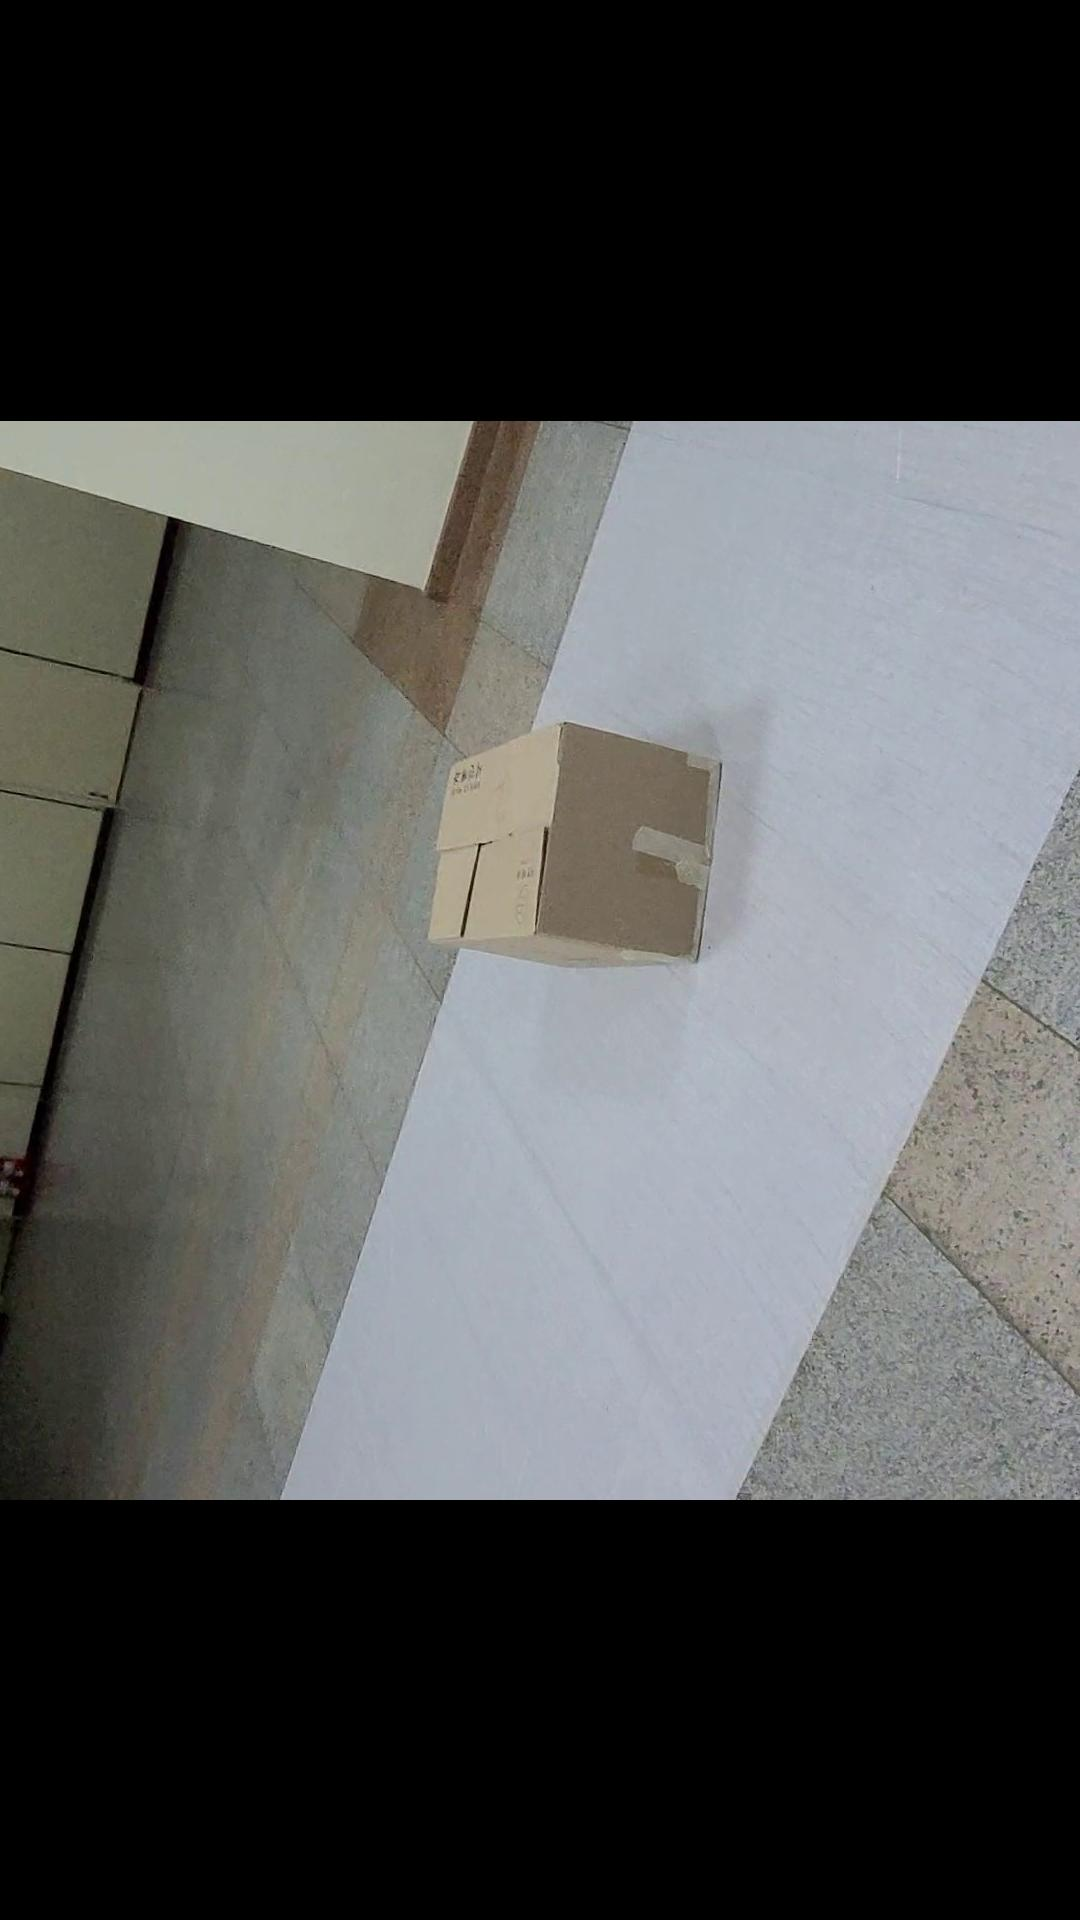Box: (410, 711, 737, 977)
